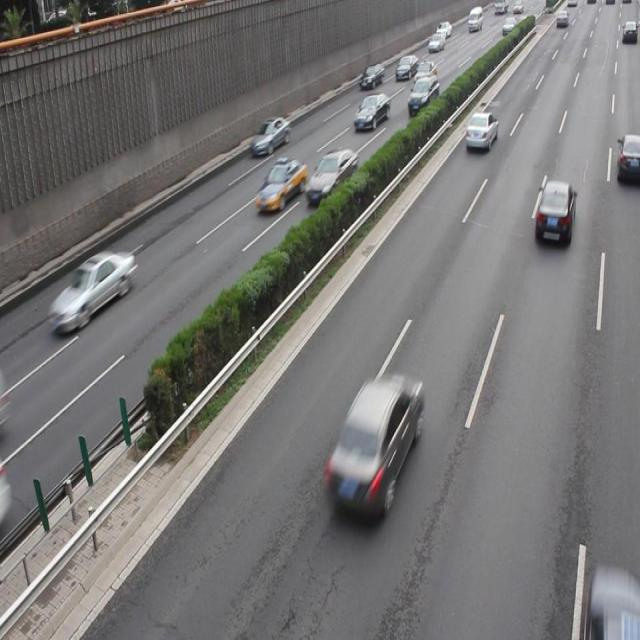car: (322, 370, 424, 524), (50, 248, 136, 334), (302, 147, 357, 204), (254, 155, 306, 212), (533, 179, 574, 248), (250, 114, 290, 156), (352, 92, 390, 131), (464, 110, 497, 152), (616, 132, 640, 184)
